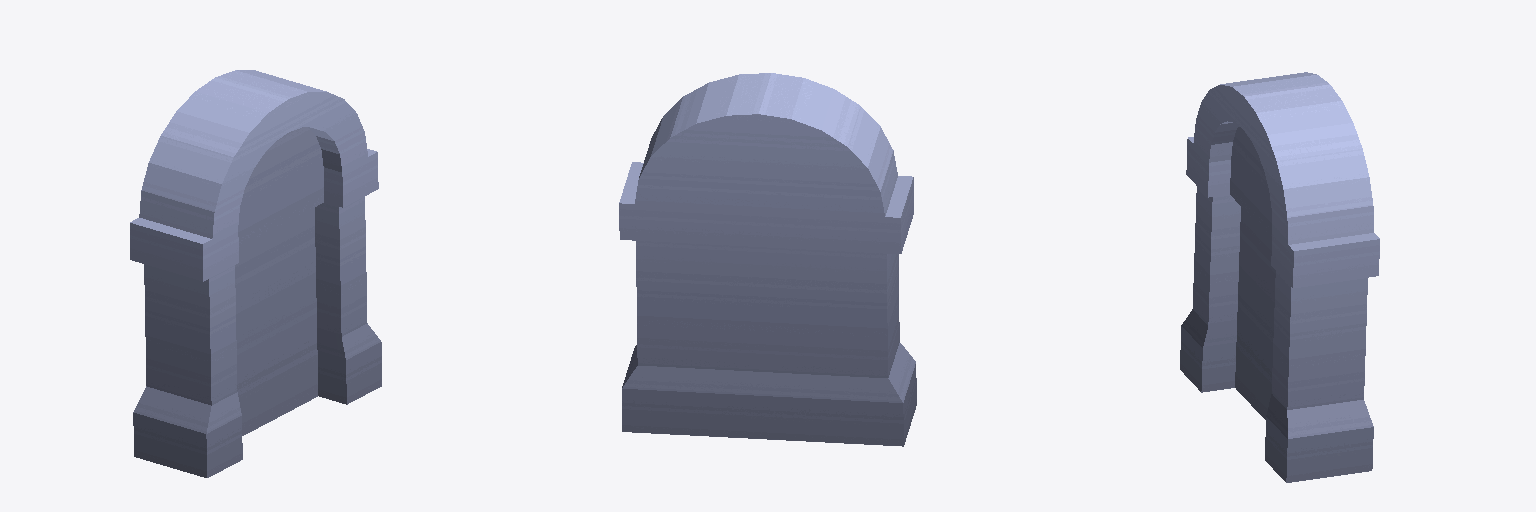
3 renders of one model, left to right at view 1: azimuth 30°, elevation 25°; view 2: azimuth 150°, elevation 25°; view 3: azimuth 270°, elevation 25°, orthographic.
Parts seen in each view (by area): view 1: Gravestone_Round_5; view 2: Gravestone_Round_5; view 3: Gravestone_Round_5.
Boxes of the visible parts, <box> form: Gravestone_Round_5: <box>130,70,381,477</box>; Gravestone_Round_5: <box>619,73,916,446</box>; Gravestone_Round_5: <box>1180,72,1379,482</box>.
Bounding box in the file's own units: 0.5744 × 0.705 × 0.3844.
Materials: 1 (1 with a texture image).